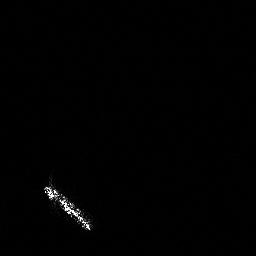ship: (41, 183, 98, 232)
